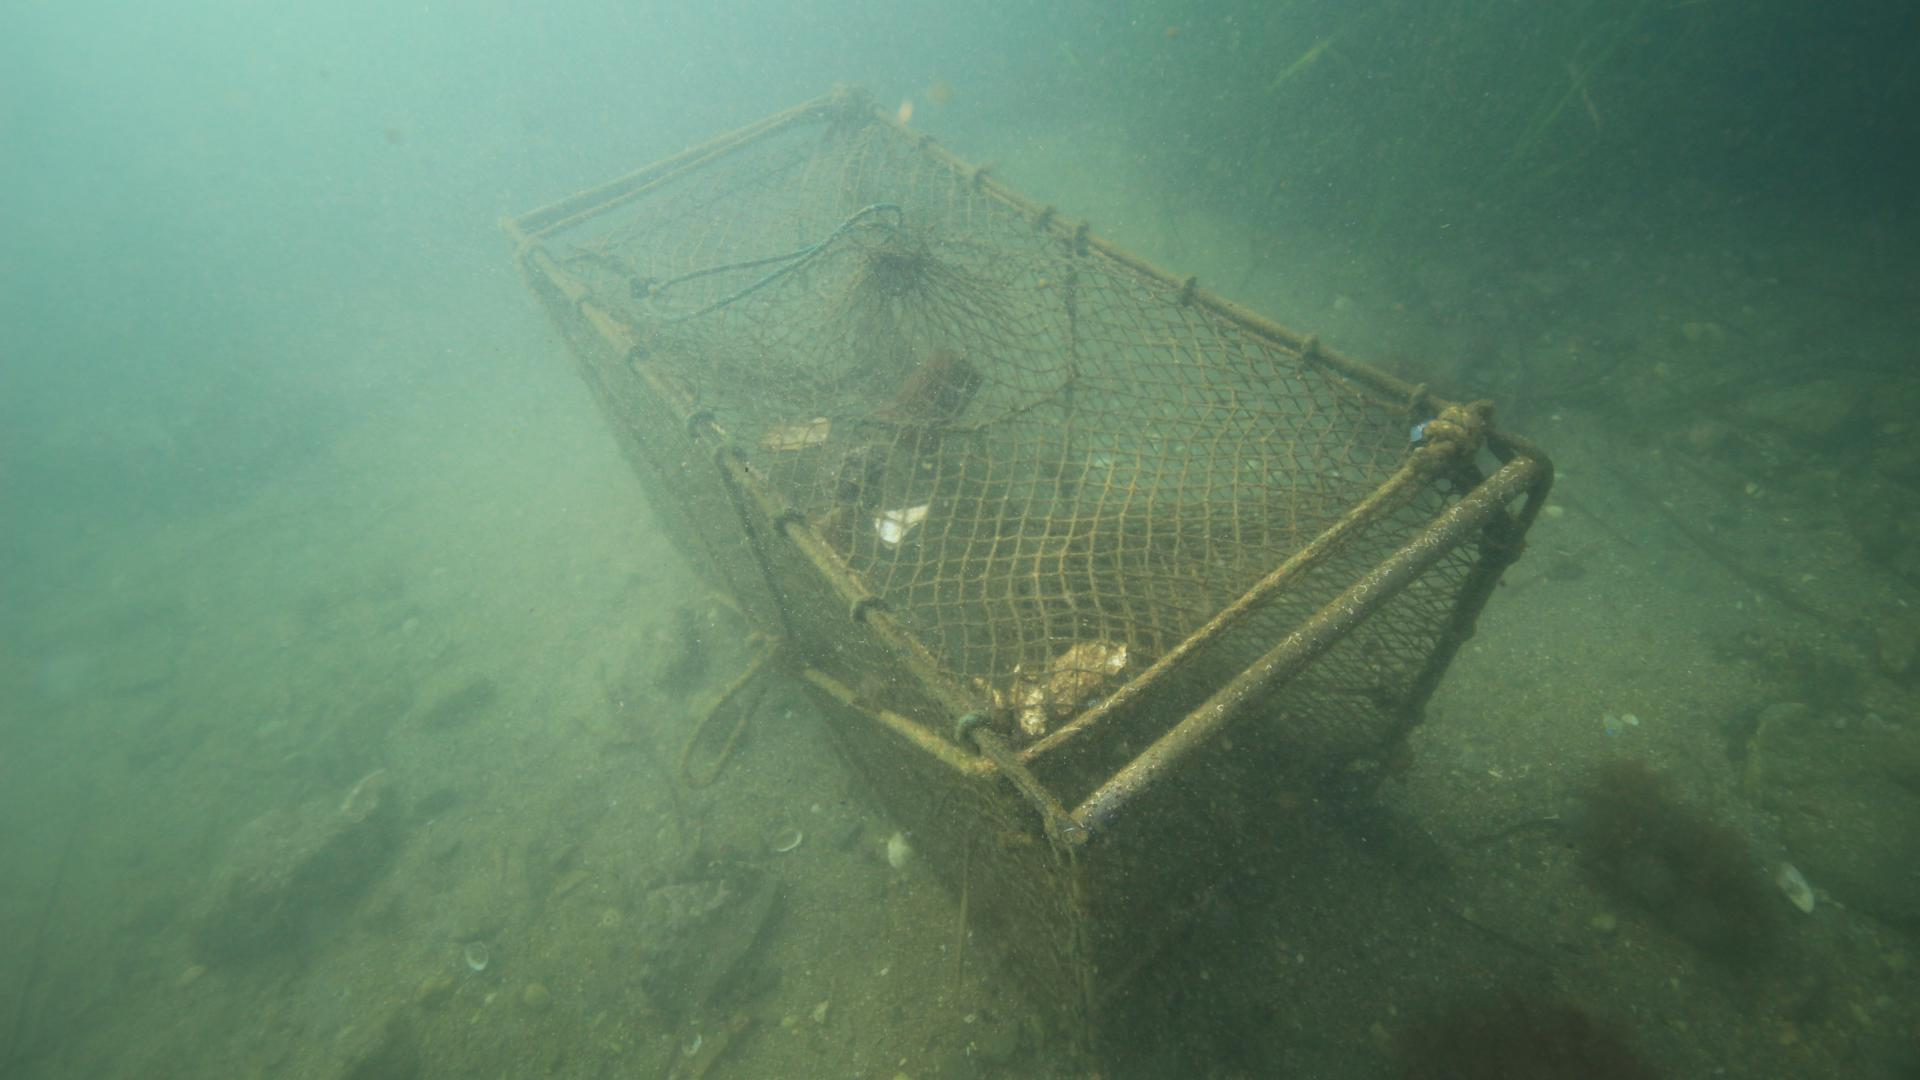rectangular fish trap: (498, 90, 1557, 1025)
